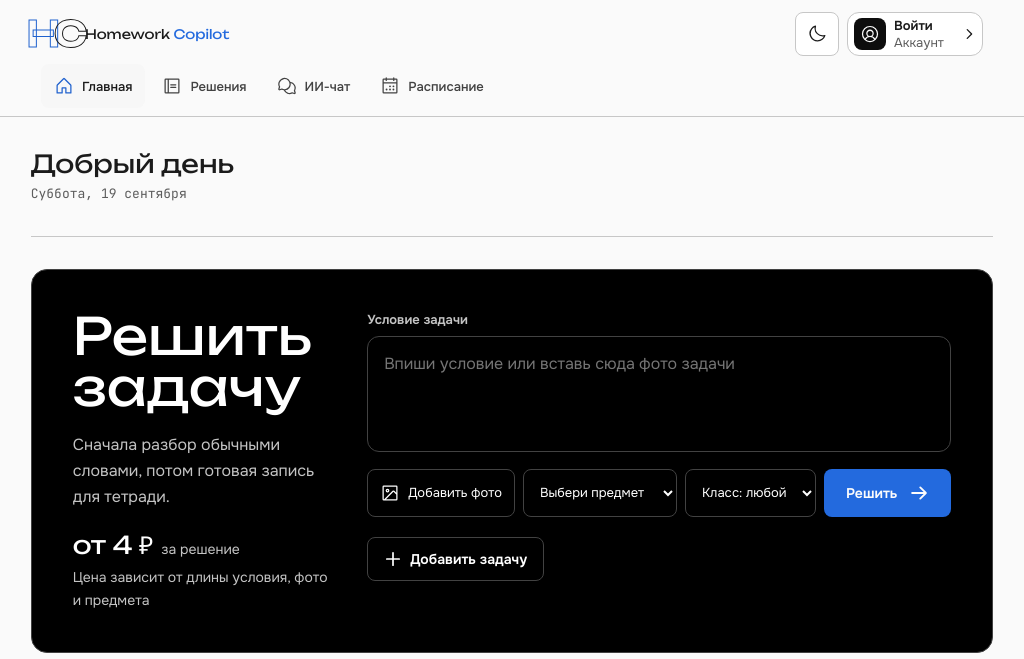
Test: Homework Copilot task flow › открывает готовое решение с карточки, когда срез условия кончается пробелом
Type "Турист прошёл в первый день 3/8 всего маршрута, а во второй — 40% оставшегося пути. Найди длину маршрута." into the text box labelled "Условие задачи" at (659, 394), box [367,336,951,452]
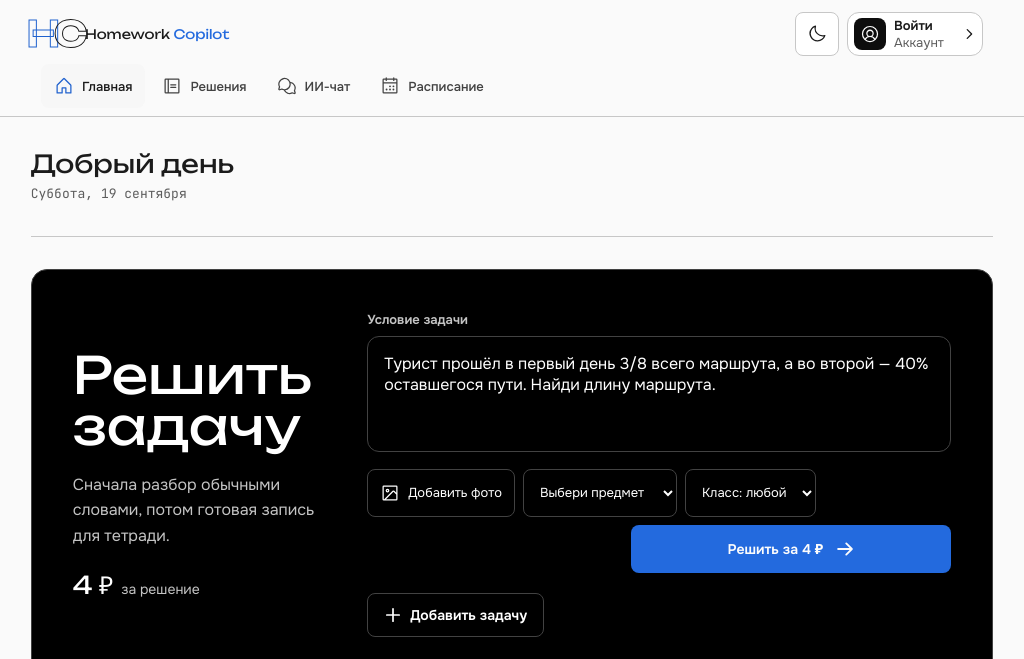
Select "Алгебра" in the 1st dropdown named "Предмет" at (600, 493), box [523,469,677,517]
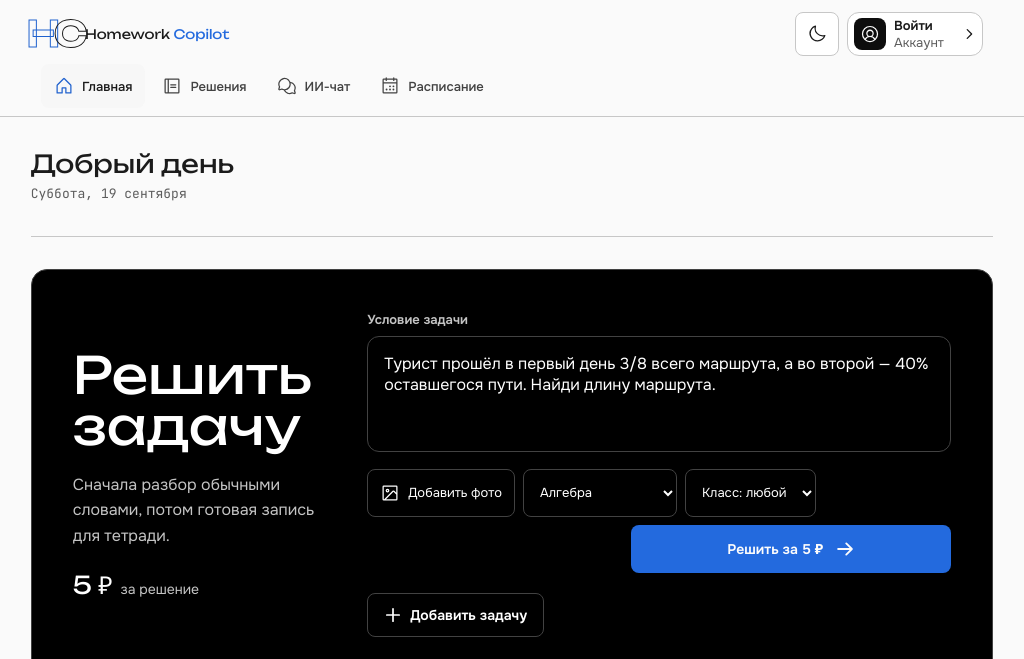
Click the button "Решить за 5 ₽" at (791, 549), box [631,525,951,573]
(page scrolled)
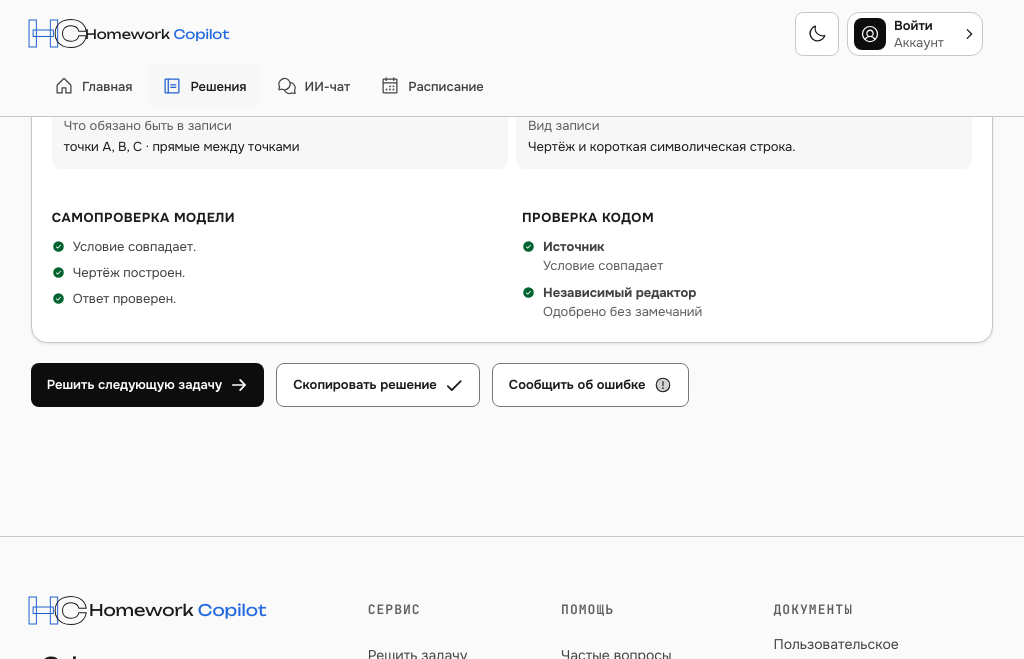
Click the button "Решить следующую задачу" at (147, 385), box [31,363,264,407]
(page scrolled)
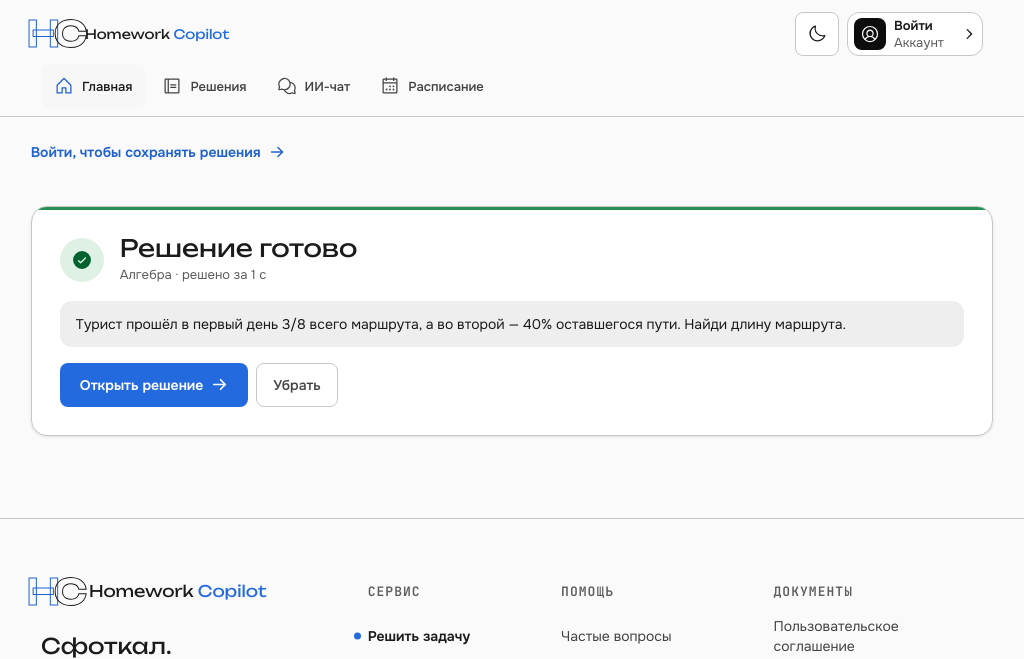
Click the button "Открыть решение" at (154, 385), box [60,363,248,407]
(page scrolled)
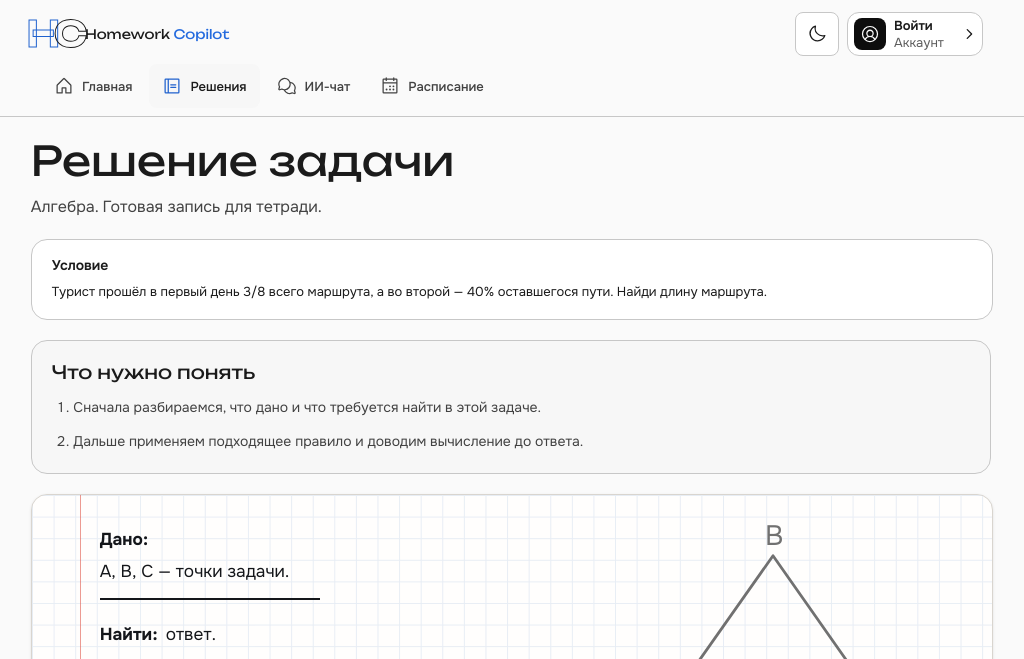
Check: the heading "Решение задачи" is shown, box [31,135,454,186]
